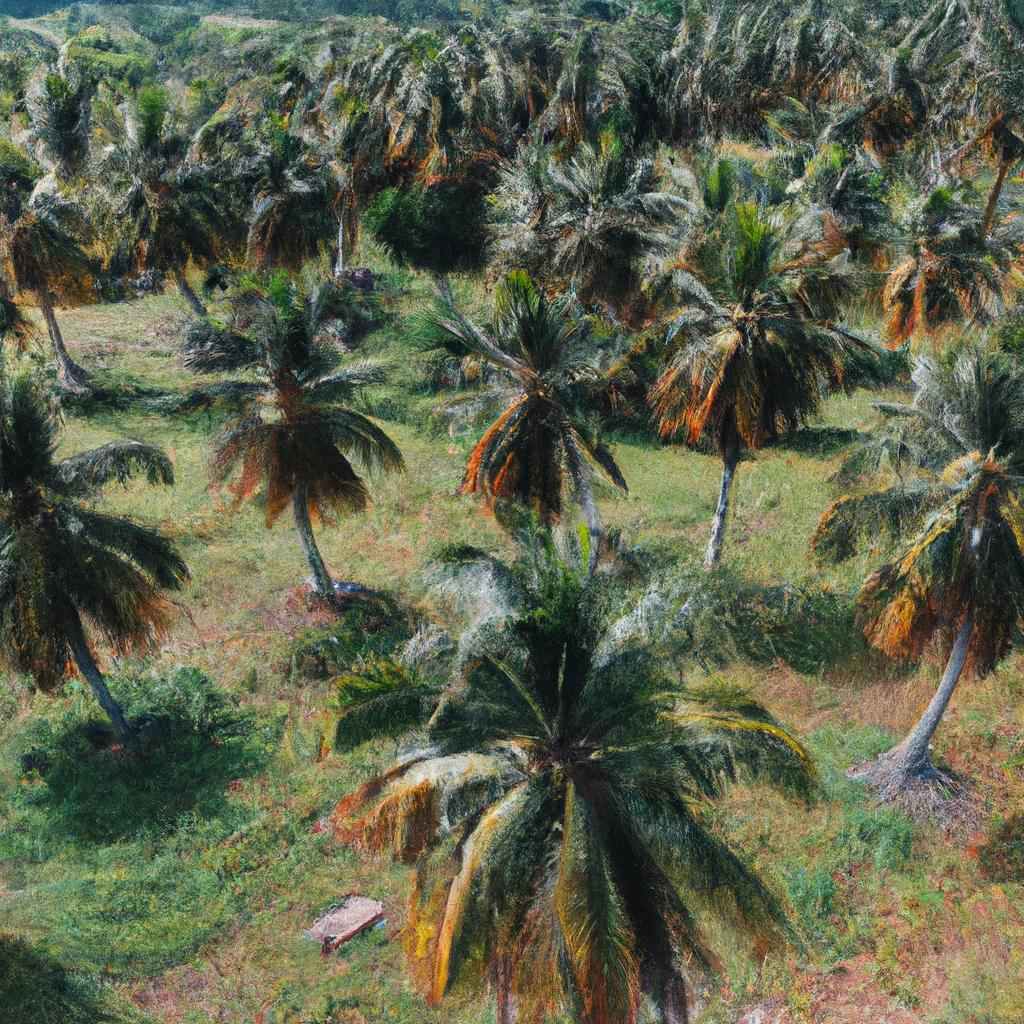coconut_tree: (308, 534, 814, 1013), (644, 220, 905, 485), (165, 281, 405, 520), (419, 277, 617, 540)
